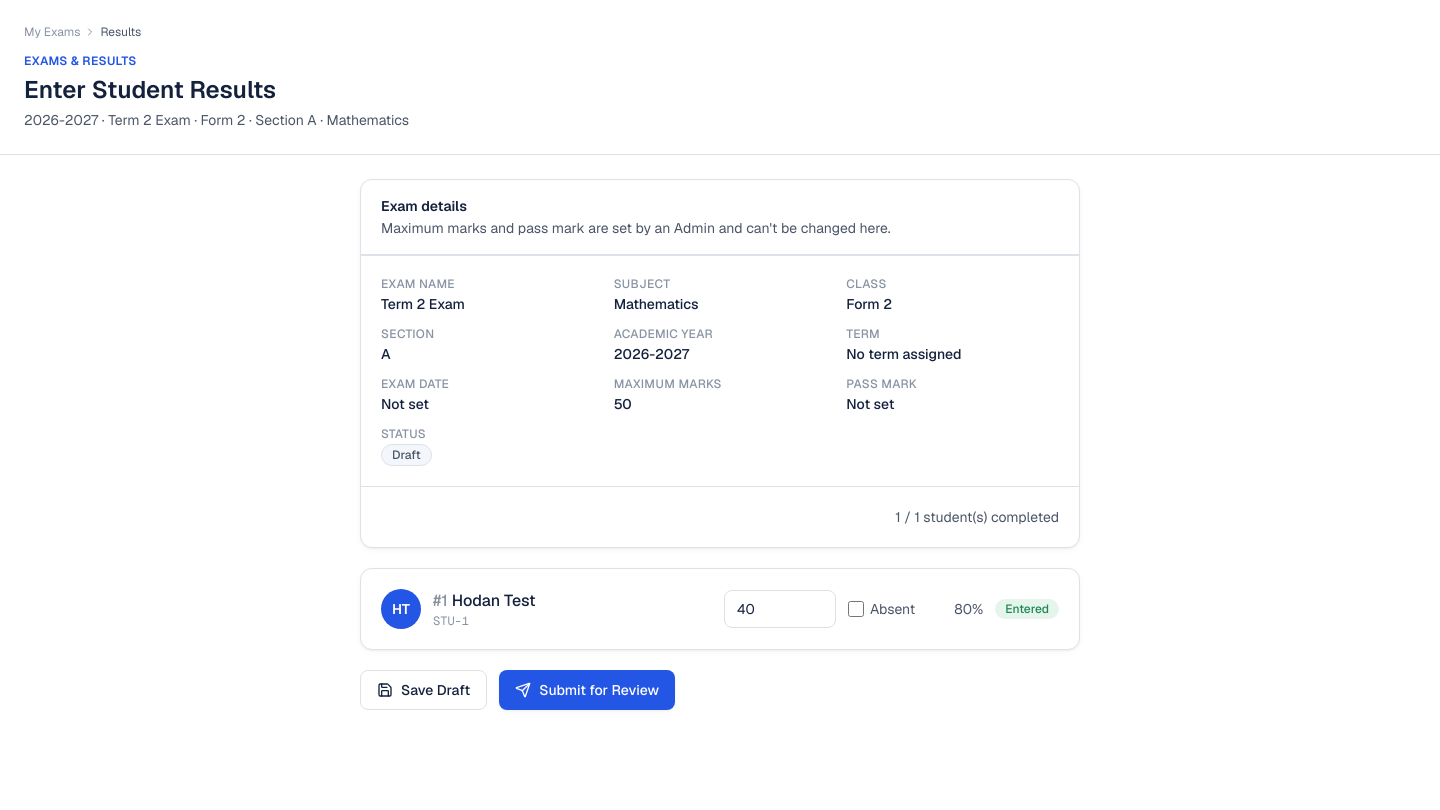
Test case: Results page - mark validation is visible and enforced › shows the server's own validation message exactly as returned, naming the student
Check: the text "Term 2 Exam" is shown, box [381,295,465,313]
Replace the text in the number field named "Mark for Hodan Test" with "45" at (780, 609), box [724,590,836,628]
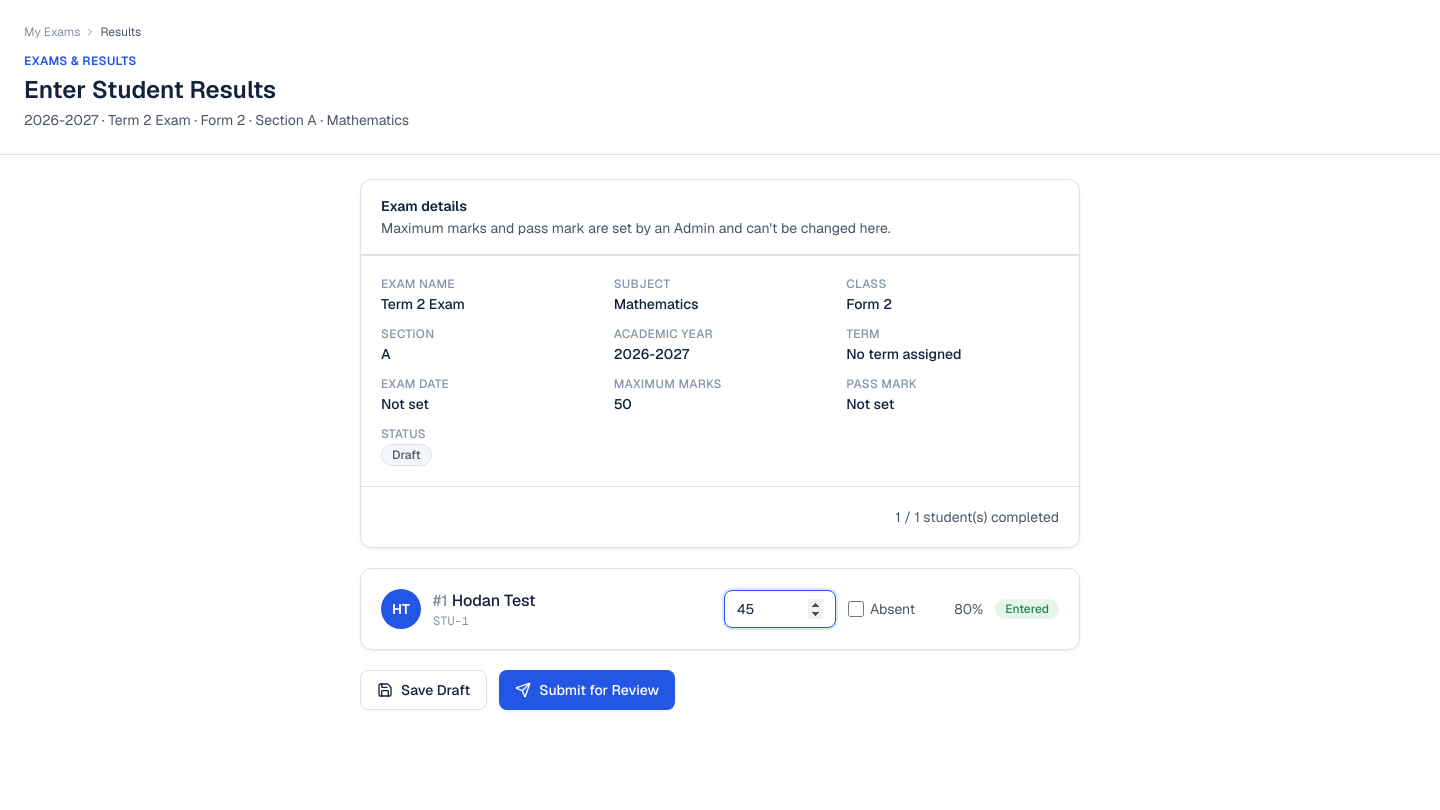
Click the button "Save Draft" at (424, 690), box [360,670,487,710]
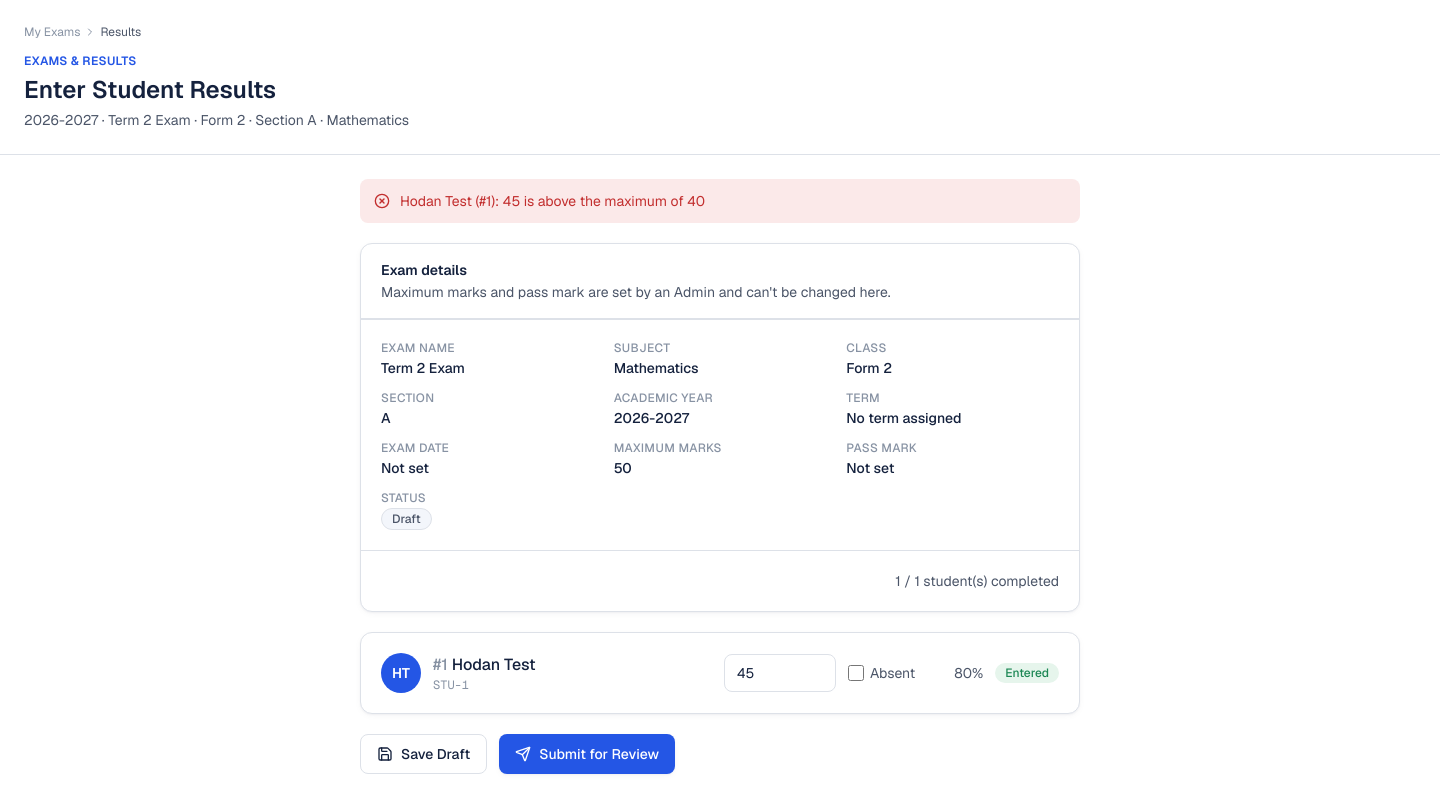
Check: the text "Hodan Test (#1): 45 is above the maximum of 40" is shown, box [400,191,705,211]
